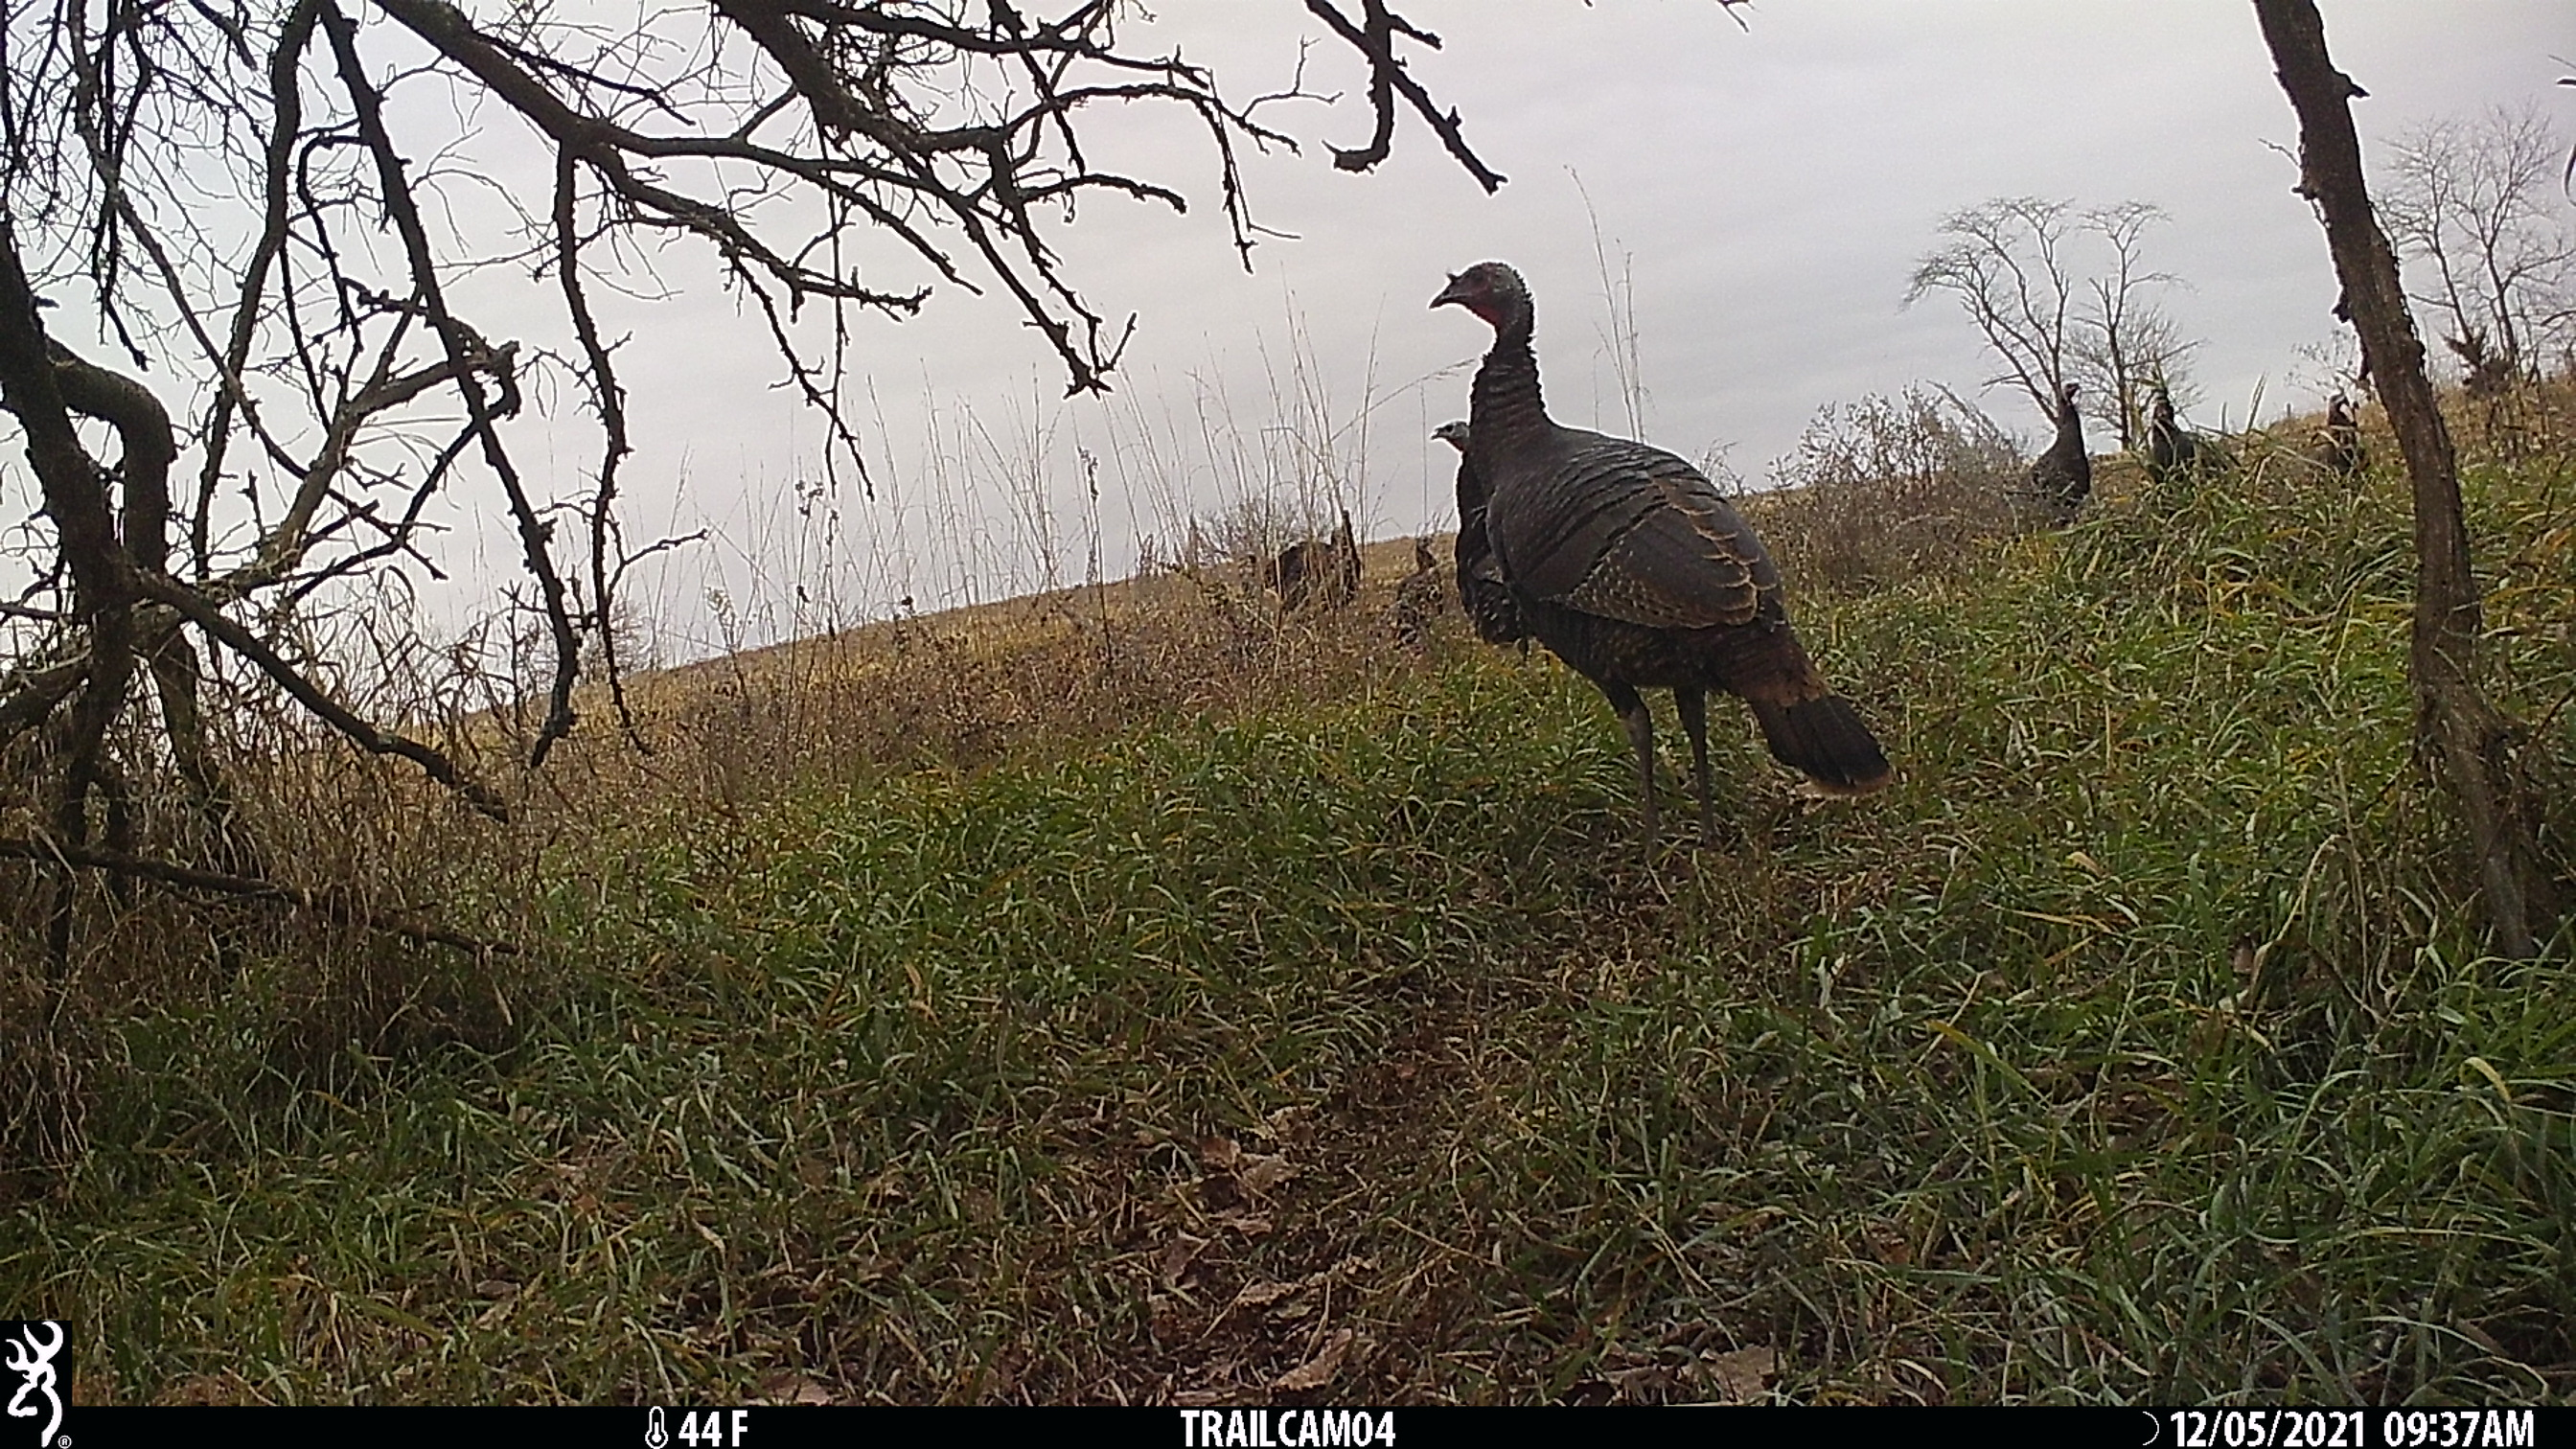Turkey: (1422, 258, 1891, 800), (1422, 410, 1537, 655), (2003, 373, 2098, 536), (2134, 368, 2233, 483), (1258, 504, 1364, 610), (2311, 386, 2378, 476)
